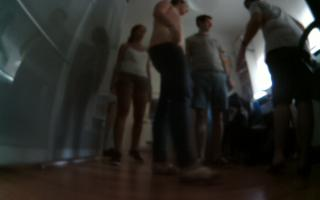person: (239, 1, 317, 175), (152, 1, 213, 186), (184, 15, 235, 168), (109, 20, 154, 172)
